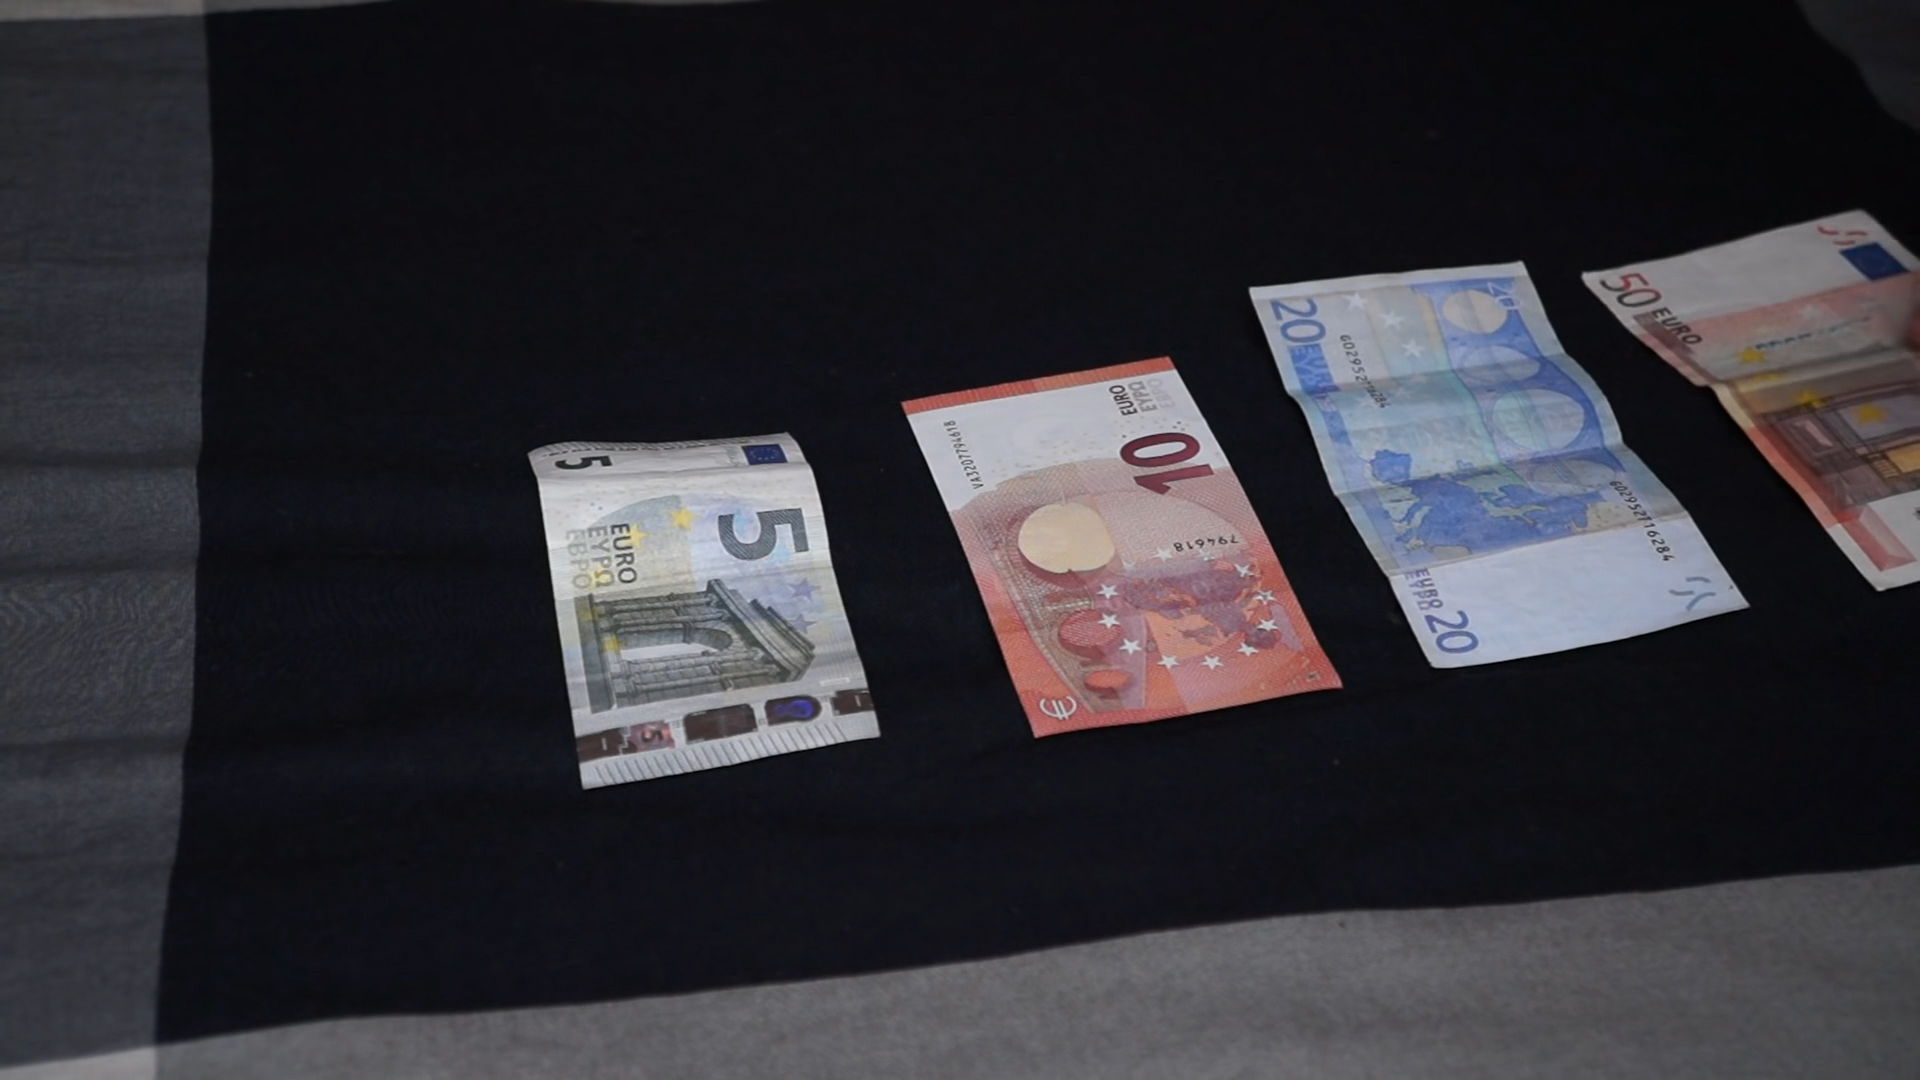billete: (1245, 256, 1753, 670), (898, 351, 1348, 741), (1578, 204, 1920, 596), (524, 423, 885, 793)
